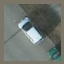car: (16, 16, 42, 45)
